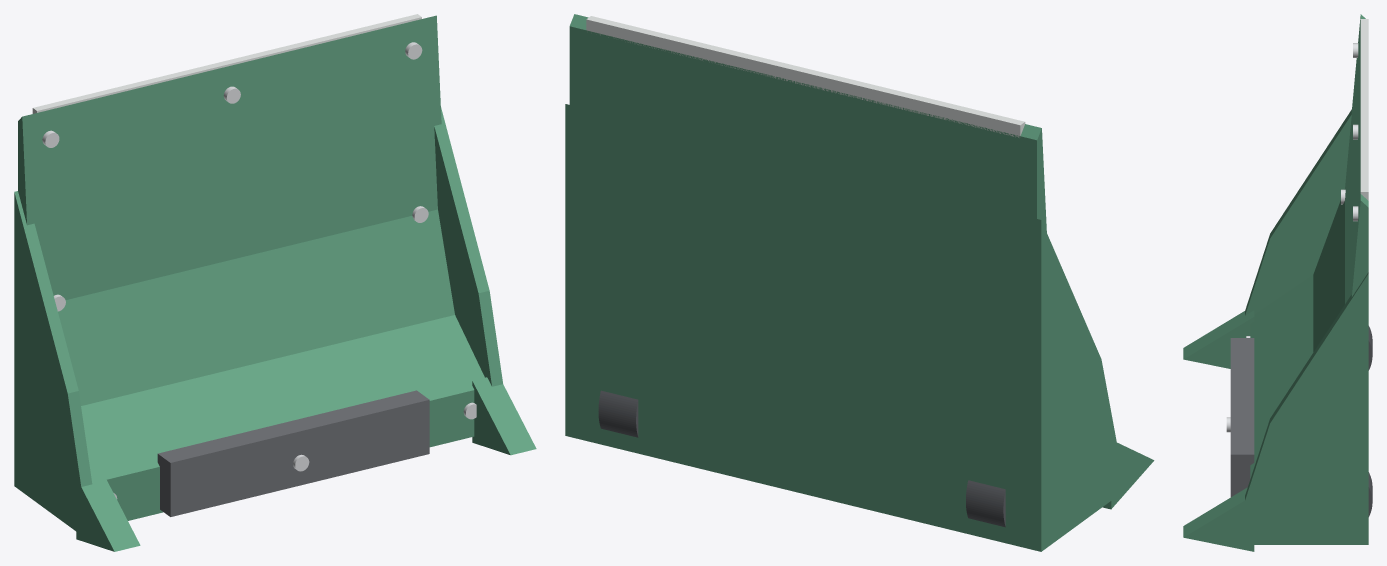
The model's file is team_phyte_s_little_sytes.glb.
The picture shows the model from 3 angles, left to right: view 1: azimuth 30°, elevation 25°; view 2: azimuth 150°, elevation 25°; view 3: azimuth 270°, elevation 25°; orthographic projection. The views are drawn at different scales.
Parts seen in each view (by area): view 1: chassis, electronics_tray, fin_r, fin_l, ear_r, ear_l, lip; view 2: chassis, fin_r, lip, fin_l, wheel_l0, wheel_r0, ear_r; view 3: fin_l, chassis, fin_r, electronics_tray, ear_l, ear_r, lip.
Part boxes in pixels (x1,y1,x2,y2): chassis: [18, 15, 484, 520]; electronics_tray: [157, 390, 429, 516]; fin_r: [14, 191, 92, 539]; fin_l: [434, 107, 502, 386]; ear_r: [76, 471, 140, 551]; ear_l: [472, 377, 536, 455]; lip: [32, 14, 421, 113]; chassis: [569, 14, 1046, 550]; fin_r: [1028, 217, 1125, 551]; lip: [586, 16, 1025, 137]; fin_l: [565, 104, 577, 438]; wheel_l0: [598, 390, 638, 437]; wheel_r0: [966, 480, 1005, 527]; ear_r: [1102, 442, 1154, 509]; fin_l: [1232, 272, 1368, 544]; chassis: [1250, 14, 1368, 478]; fin_r: [1245, 109, 1351, 315]; electronics_tray: [1230, 338, 1254, 496]; ear_l: [1183, 487, 1254, 551]; ear_r: [1183, 310, 1254, 368]; lip: [1360, 19, 1368, 200].
Size of the model in its own units: 114 by 98.5 by 48.
